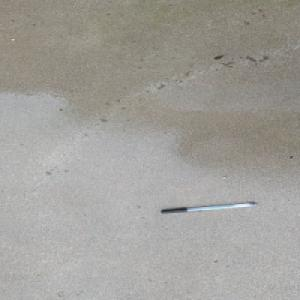Pen: (159, 202, 258, 214)
